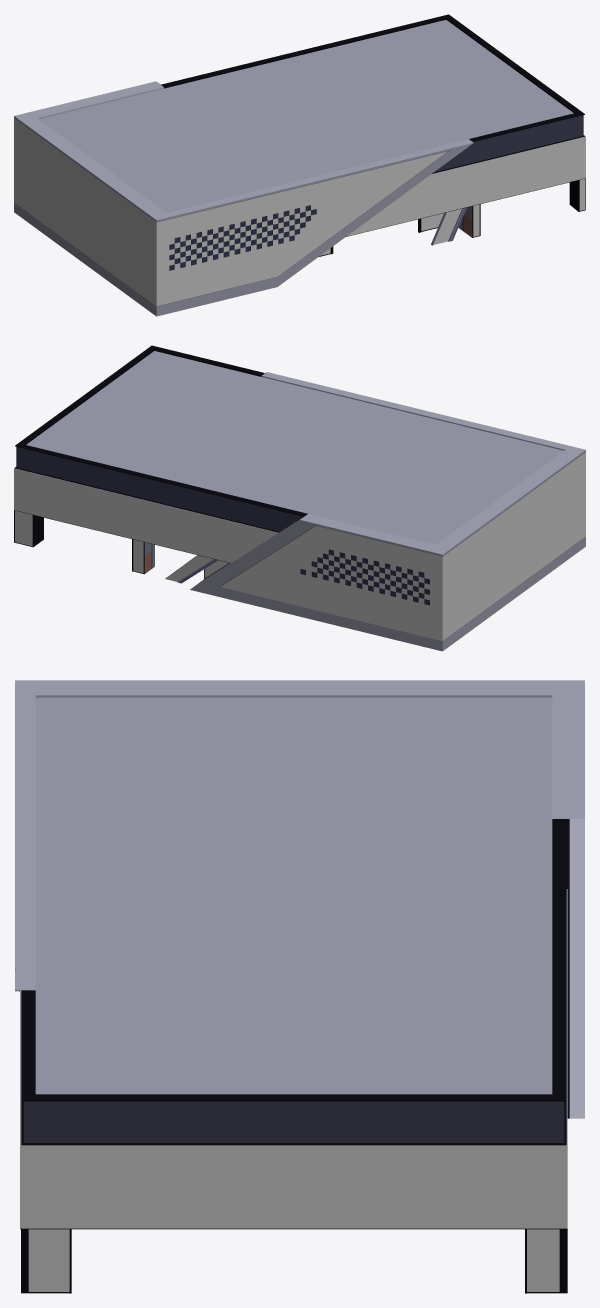
The model's file is Building_009_1st_L0.fbx.
3 views of the same model, one above another, from view 1: azimuth 30°, elevation 25°; view 2: azimuth 150°, elevation 25°; view 3: azimuth 270°, elevation 25° (orthographic). The views are drawn at different scales.
Parts seen in each view (by area): view 1: Building_009_1st_L0; view 2: Building_009_1st_L0; view 3: Building_009_1st_L0.
Part boxes in pixels (x1,y1,x2,y2): Building_009_1st_L0: (14,14,585,316); Building_009_1st_L0: (14,345,585,651); Building_009_1st_L0: (15,680,584,1293).
Size of the model in its own units: 70.21 by 15 by 40.25.
